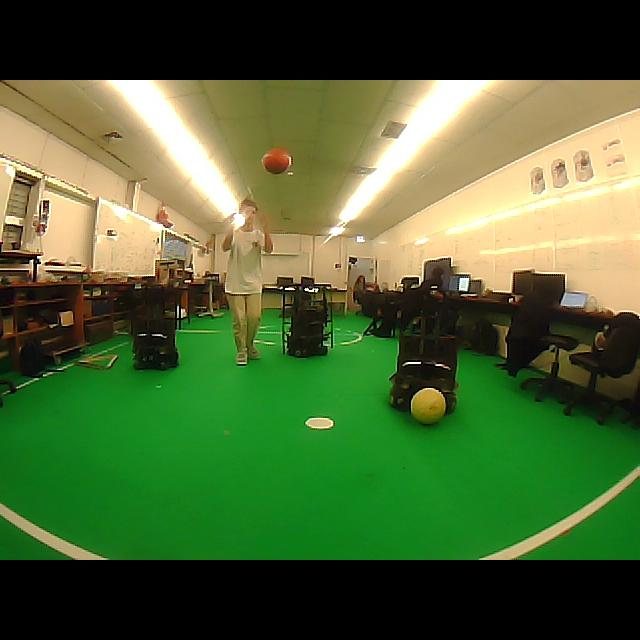ball: (410, 388, 446, 424), (262, 149, 292, 174)
robot: (389, 316, 458, 423), (282, 279, 334, 357), (134, 286, 179, 369)
